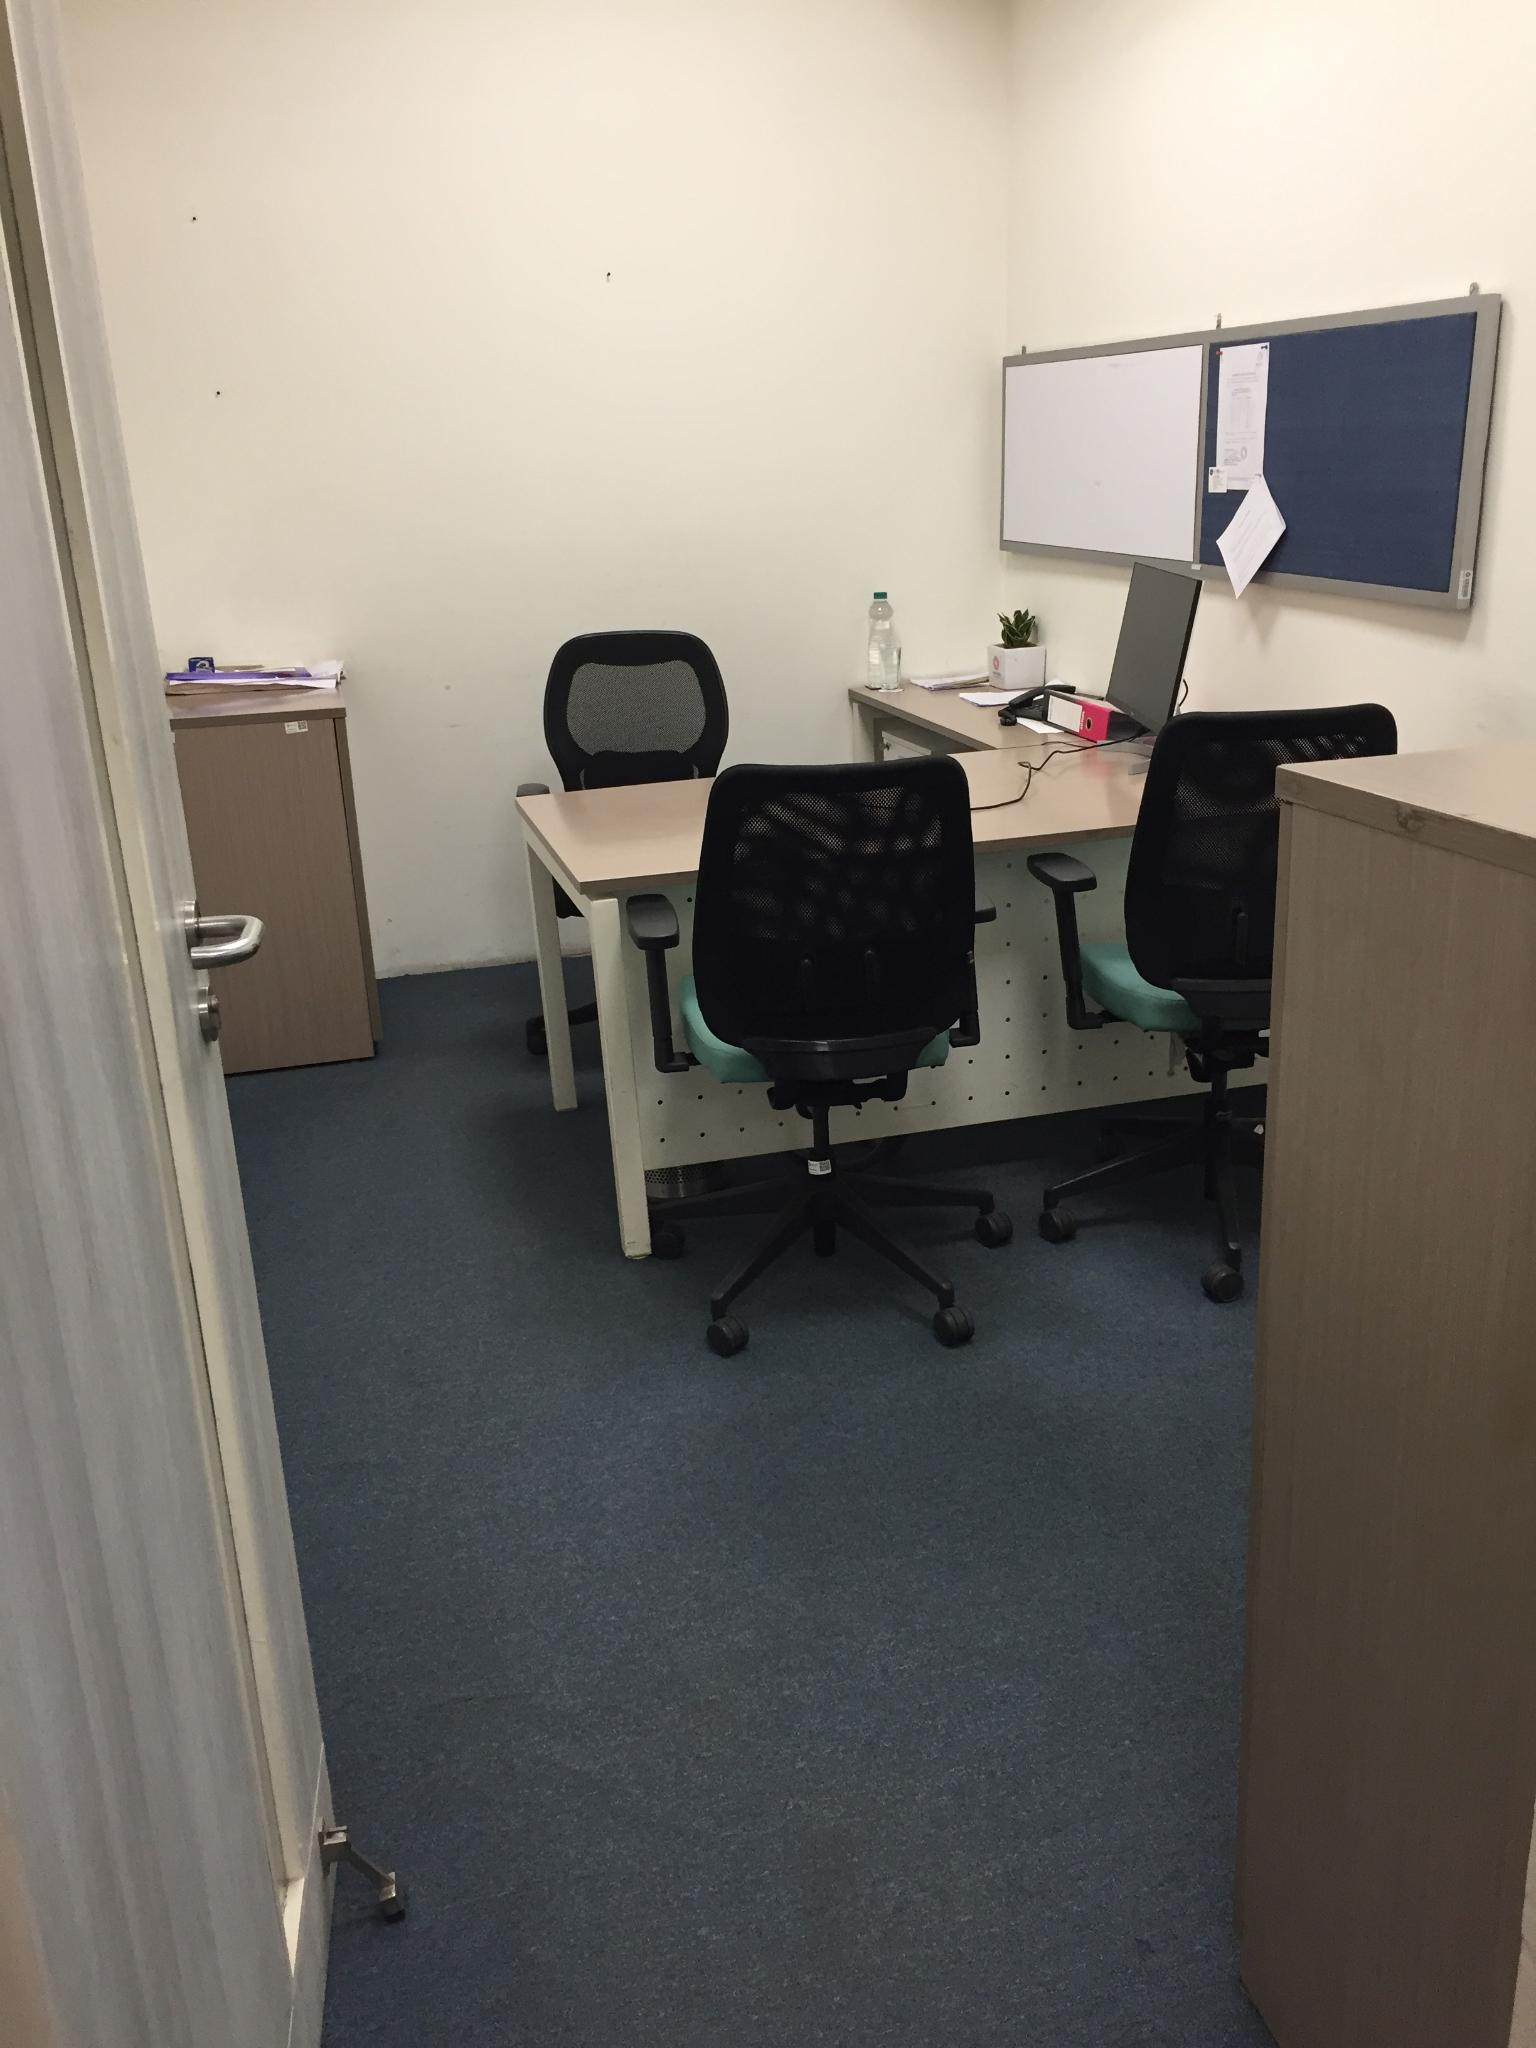chair: (1026, 702, 1398, 1302), (669, 752, 1013, 1356), (515, 628, 731, 1112)
